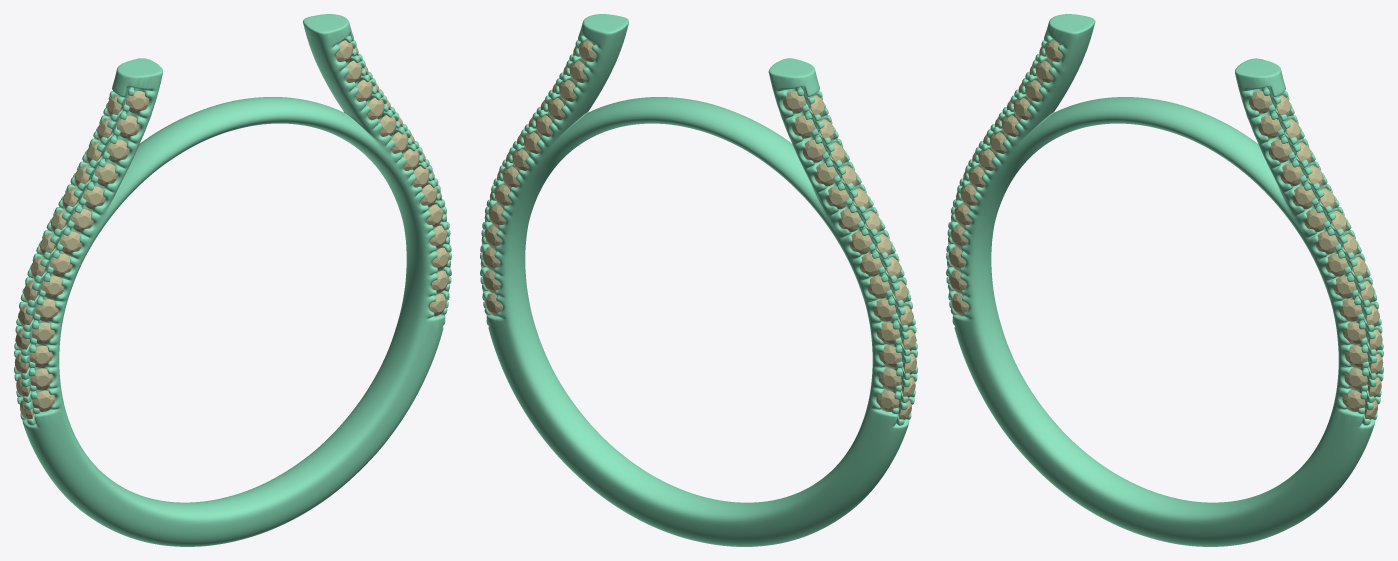
3 views of the same model, side by side, from view 1: azimuth 30°, elevation 25°; view 2: azimuth 150°, elevation 25°; view 3: azimuth 330°, elevation 25° (orthographic).
Parts seen in each view (by area): view 1: Metal02; view 2: Metal02; view 3: Metal02.
Boxes of the visible parts, box(x1,y1,x2,y2) form: Metal02: box(14, 14, 451, 546); Metal02: box(480, 14, 917, 546); Metal02: box(946, 14, 1383, 546).
Size of the model in its own units: 20.82 by 22.84 by 1.91.
